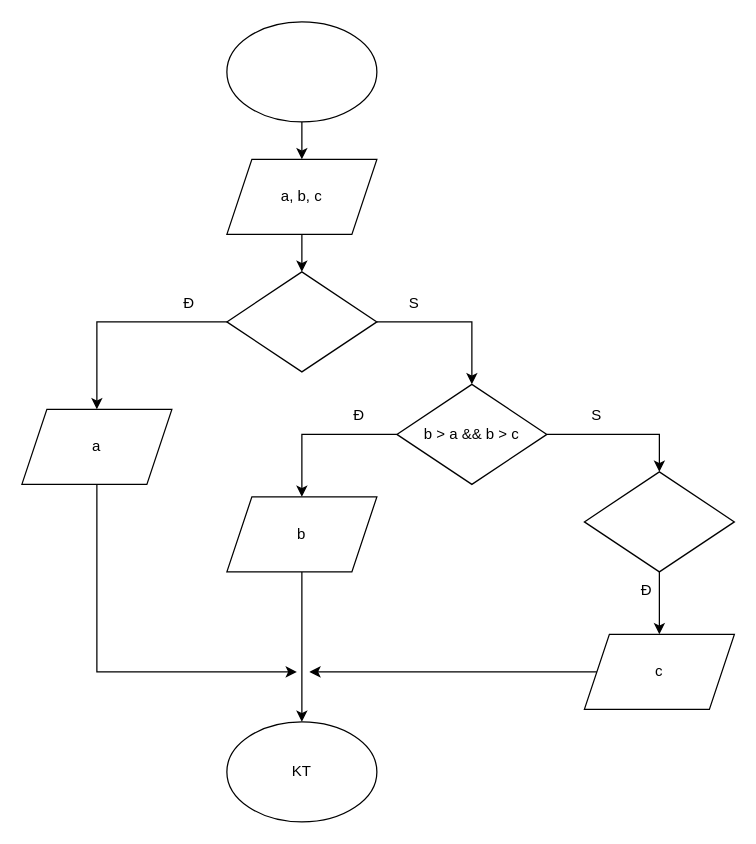
The diagram is 756 pixels wide and 844 high, and some of its shapes have lost their labels. The box of each missing label's shape, as (x1, y1, x2, y2) in pixels:
a > b && a > c: (226, 271, 377, 372)
BĐ: (226, 21, 377, 122)
c > a && c > b: (583, 471, 734, 572)
